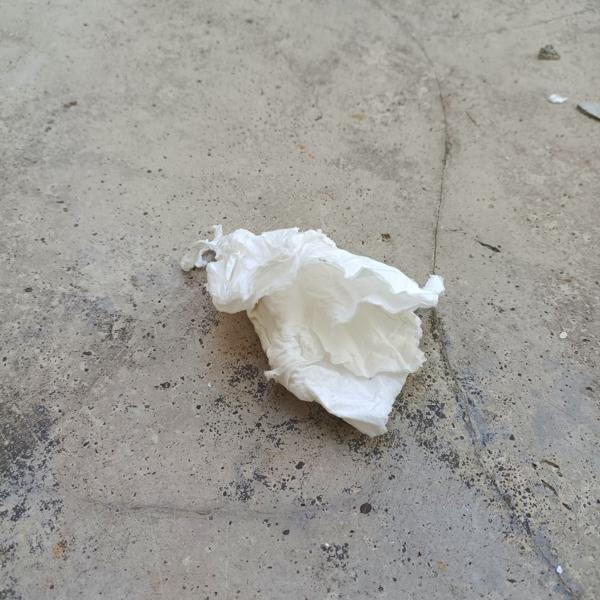Organik: (176, 199, 463, 454)
